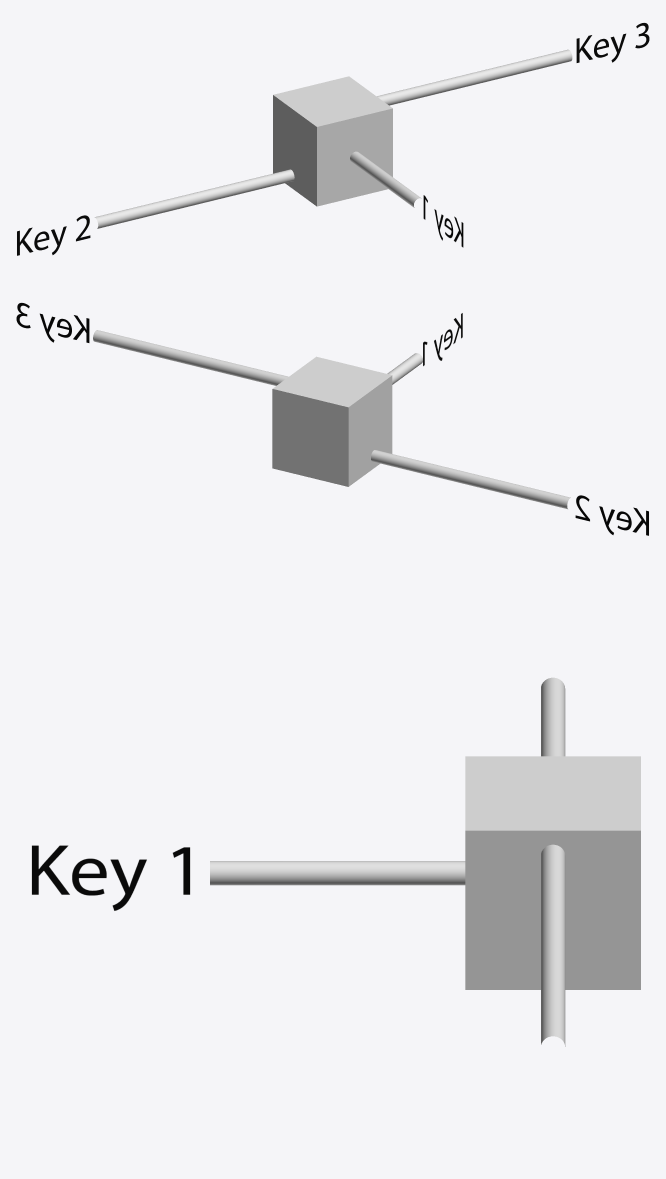
The model's file is Dum.glb.
The picture shows the model from 3 angles, top to bottom: view 1: azimuth 30°, elevation 25°; view 2: azimuth 150°, elevation 25°; view 3: azimuth 270°, elevation 25°; orthographic projection. The views are drawn at different scales.
Visible parts, largest first — view 1: Cube, Circle.001, Circle, Circle.002, Asset 1, Asset 2, Asset 3; view 2: Cube, Circle.001, Circle, Asset 1, Asset 2, Circle.002, Asset 3; view 3: Cube, Circle.002, Circle, Asset 3, Circle.001.
Boxes of the visible parts, x1,y1,x2,y2 form: Cube: [273, 76, 392, 206]; Circle.001: [94, 169, 294, 228]; Circle: [377, 49, 572, 105]; Circle.002: [350, 151, 421, 207]; Asset 1: [576, 22, 649, 62]; Asset 2: [17, 215, 90, 255]; Asset 3: [423, 195, 463, 247]; Cube: [272, 356, 392, 486]; Circle.001: [371, 450, 570, 509]; Circle: [93, 330, 288, 385]; Asset 1: [16, 302, 89, 342]; Asset 2: [575, 495, 648, 535]; Circle.002: [387, 353, 422, 384]; Asset 3: [423, 313, 462, 366]; Cube: [465, 756, 640, 989]; Circle.002: [210, 861, 465, 885]; Circle: [541, 844, 565, 1046]; Asset 3: [31, 845, 190, 910]; Circle.001: [541, 677, 565, 756].
Bounding box in the file's own units: 16.77 × 2.41 × 7.01.
Materials: 4 (3 with a texture image).
